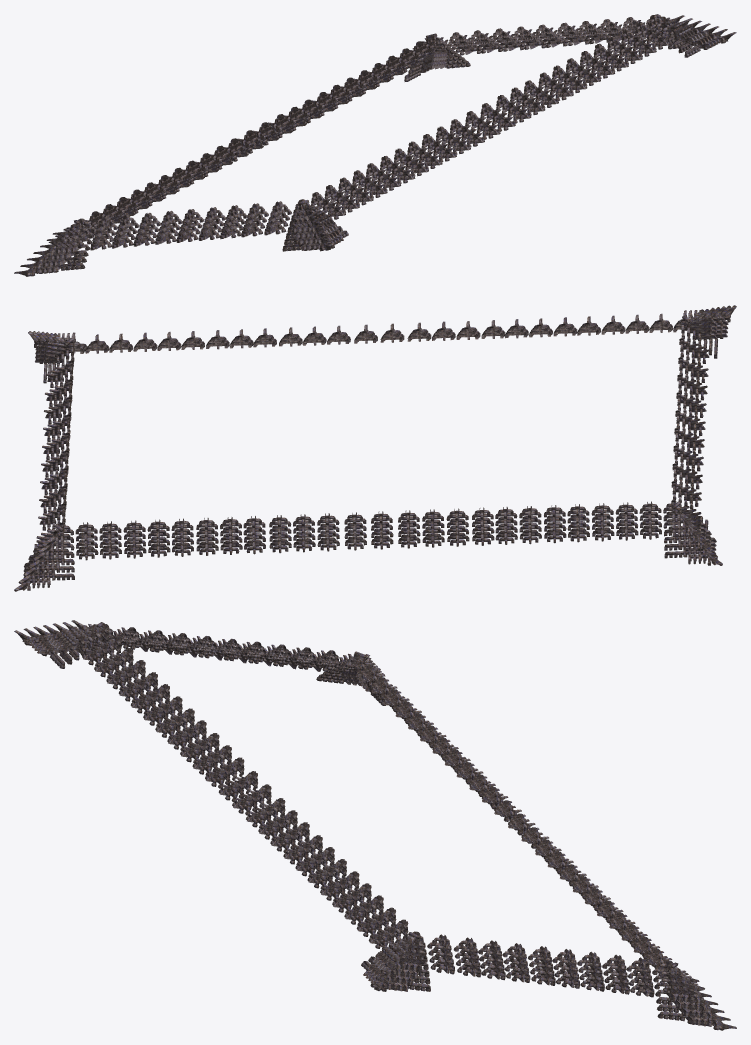
File: 上榫卯.obj
3 renders of one model, top to bottom at view 1: azimuth 30°, elevation 25°; view 2: azimuth 150°, elevation 25°; view 3: azimuth 270°, elevation 25°, orthographic. The views are drawn at different scales.
Parts seen in each view (by area): view 1: 上榫卯; view 2: 上榫卯; view 3: 上榫卯.
Part boxes in pixels (x1,y1,x2,y2): 上榫卯: [14, 14, 736, 276]; 上榫卯: [14, 305, 736, 591]; 上榫卯: [14, 620, 736, 1030].
Size of the model in its own units: 1.48 by 0.3423 by 1.17.
1 material, 1 textured.
